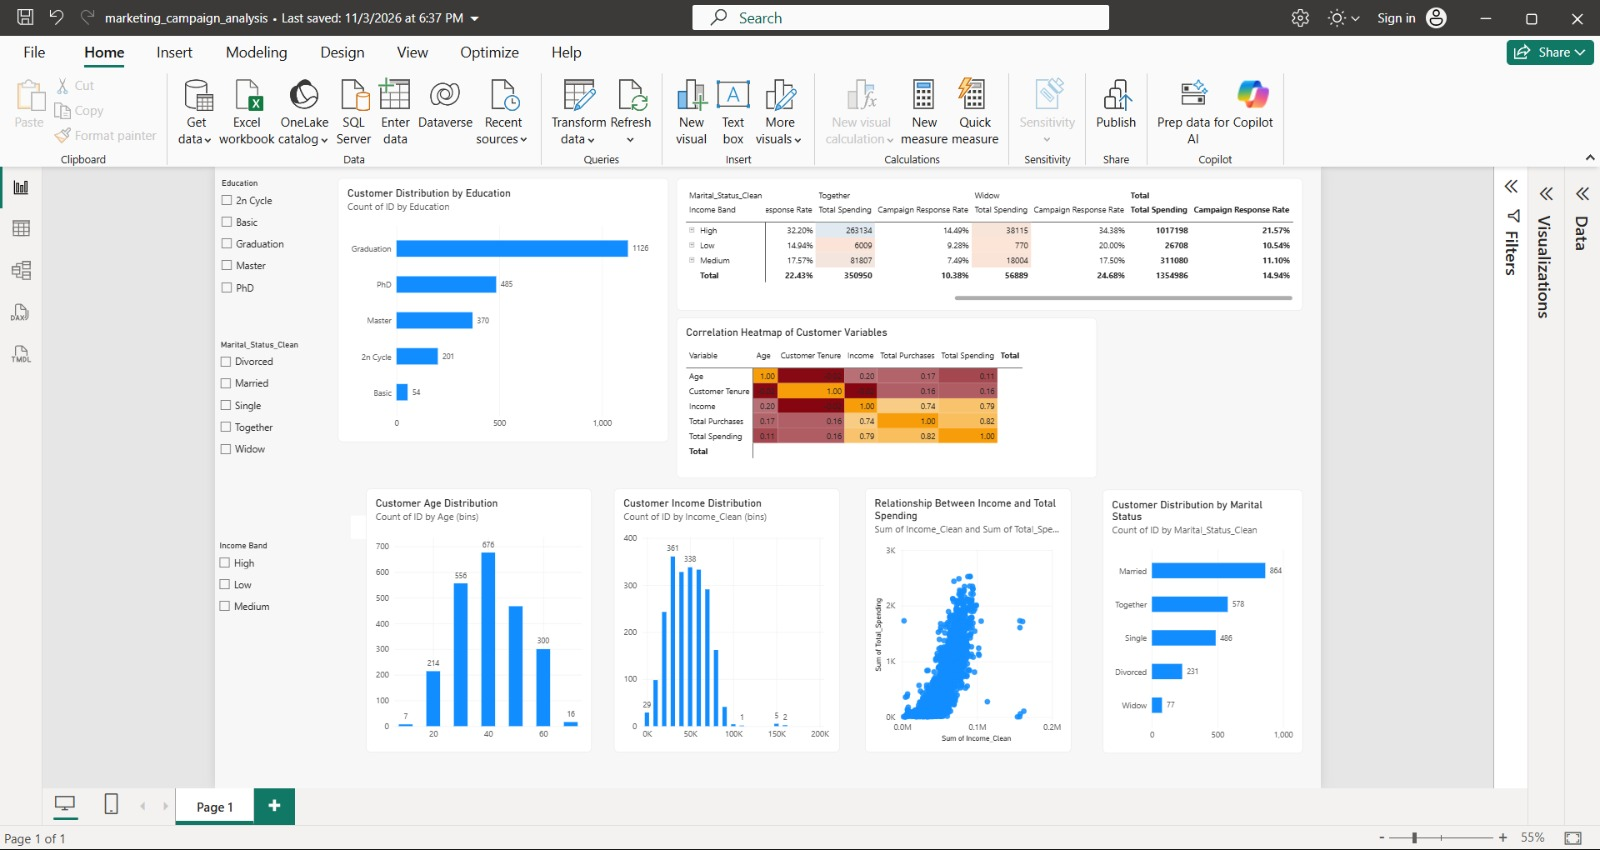

What the dashboard file says about the page in this screenshot:
{"tool":"powerbi","page":{"name":"Page 1","canvas":[1920,1080],"ordinal":0},"visuals":[{"type":"slicer","fields":{"Values":["marketing_campaign.Education"]},"box":[10,0,280,280],"z":0},{"type":"slicer","fields":{"Values":["marketing_campaign.Marital_Status_Clean"]},"box":[10,290,280,280],"z":1},{"type":"slicer","fields":{"Values":["marketing_campaign.Income Band"]},"box":[10,580,280,280],"z":2},{"type":"clusteredBarChart","title":"Customer Distribution by Education","fields":{"Category":["marketing_campaign.Education"],"Y":["CountNonNull(marketing_campaign.ID)"]},"box":[194,20,662,458],"z":3},{"type":"clusteredBarChart","title":"Customer Distribution by Marital Status","fields":{"Category":["marketing_campaign.Marital_Status_Clean"],"Y":["CountNonNull(marketing_campaign.ID)"]},"box":[1426,604,348,458],"z":4},{"type":"clusteredColumnChart","title":"Customer Age Distribution","fields":{"Category":["marketing_campaign.Age (bins)"],"Y":["CountNonNull(marketing_campaign.ID)"]},"box":[194,524,392,458],"z":5},{"type":"clusteredColumnChart","title":"Customer Income Distribution","fields":{"Category":["marketing_campaign.Income_Clean (bins)"],"Y":["CountNonNull(marketing_campaign.ID)"]},"box":[606,524,392,458],"z":6},{"type":"scatterChart","title":"Relationship Between Income and Total Spending","fields":{"Category":["marketing_campaign.ID"],"X":["Sum(marketing_campaign.Income_Clean)"],"Y":["Sum(marketing_campaign.Total_Spending)"]},"box":[1014,580,358,458],"z":7},{"type":"pivotTable","fields":{"Columns":["marketing_campaign.Marital_Status_Clean"],"Rows":["marketing_campaign.Income Band","marketing_campaign.Education"],"Values":["marketing_campaign.Total Spending","marketing_campaign.Campaign Response Rate"]},"box":[898,20,200,210],"z":8},{"type":"pivotTable","title":"Correlation Heatmap of Customer Variables","fields":{"Columns":["Correlation Columns.Variable"],"Rows":["Correlation Rows.Variable"],"Values":["Correlation Columns.Correlation Coefficient"]},"box":[1128,46,730,402],"z":10}]}

Visuals, with their boxes on the page's 1920x1080 design canvas (x1, y1, x2, y2). These are canvas units, not pixel positions in the 1600x850 screenshot, which may show the page scaled, cropped or inside an application window:
slicer - marketing_campaign.Education: {"left": 10, "top": 0, "right": 290, "bottom": 280}
slicer - marketing_campaign.Marital_Status_Clean: {"left": 10, "top": 290, "right": 290, "bottom": 570}
slicer - marketing_campaign.Income Band: {"left": 10, "top": 580, "right": 290, "bottom": 860}
"Customer Distribution by Education" clusteredBarChart: {"left": 194, "top": 20, "right": 856, "bottom": 478}
"Customer Distribution by Marital Status" clusteredBarChart: {"left": 1426, "top": 604, "right": 1774, "bottom": 1062}
"Customer Age Distribution" clusteredColumnChart: {"left": 194, "top": 524, "right": 586, "bottom": 982}
"Customer Income Distribution" clusteredColumnChart: {"left": 606, "top": 524, "right": 998, "bottom": 982}
"Relationship Between Income and Total Spending" scatterChart: {"left": 1014, "top": 580, "right": 1372, "bottom": 1038}
pivotTable - marketing_campaign.Marital_Status_Clean x marketing_campaign.Income Band: {"left": 898, "top": 20, "right": 1098, "bottom": 230}
"Correlation Heatmap of Customer Variables" pivotTable: {"left": 1128, "top": 46, "right": 1858, "bottom": 448}
